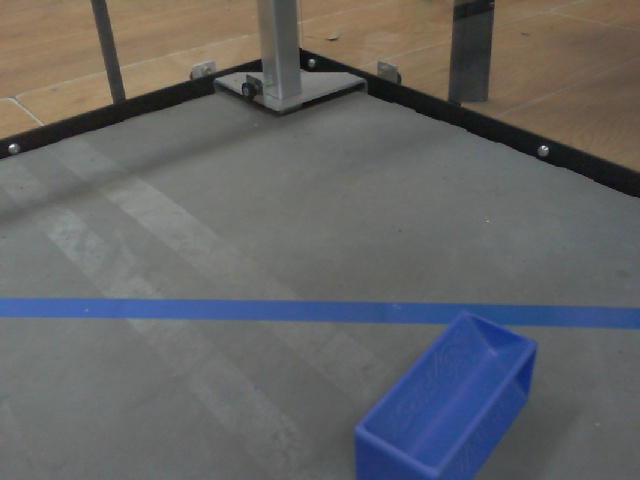BlueSample: (352, 308, 540, 480)
